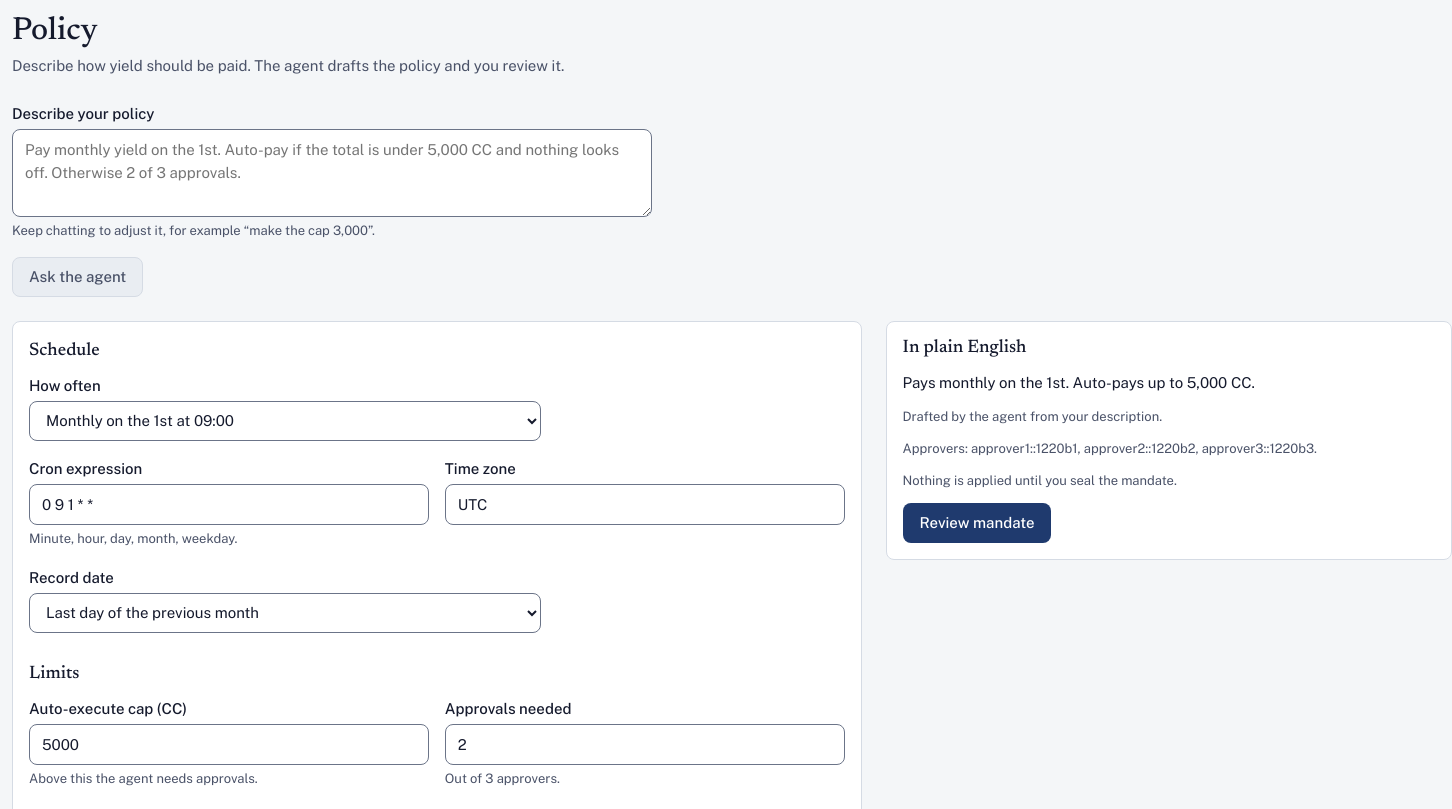
setup policy page › updates the summary from the PUT response, not from local text
Expected: the text "Pays monthly on the 1st. Auto-pays up to 5,000 CC." is shown, x1=903 y1=374 x2=1255 y2=391
Replace the text in the field labelled "Auto-execute cap (CC)" with "3000" at x=229, y=745, box x1=29 y1=724 x2=429 y2=765
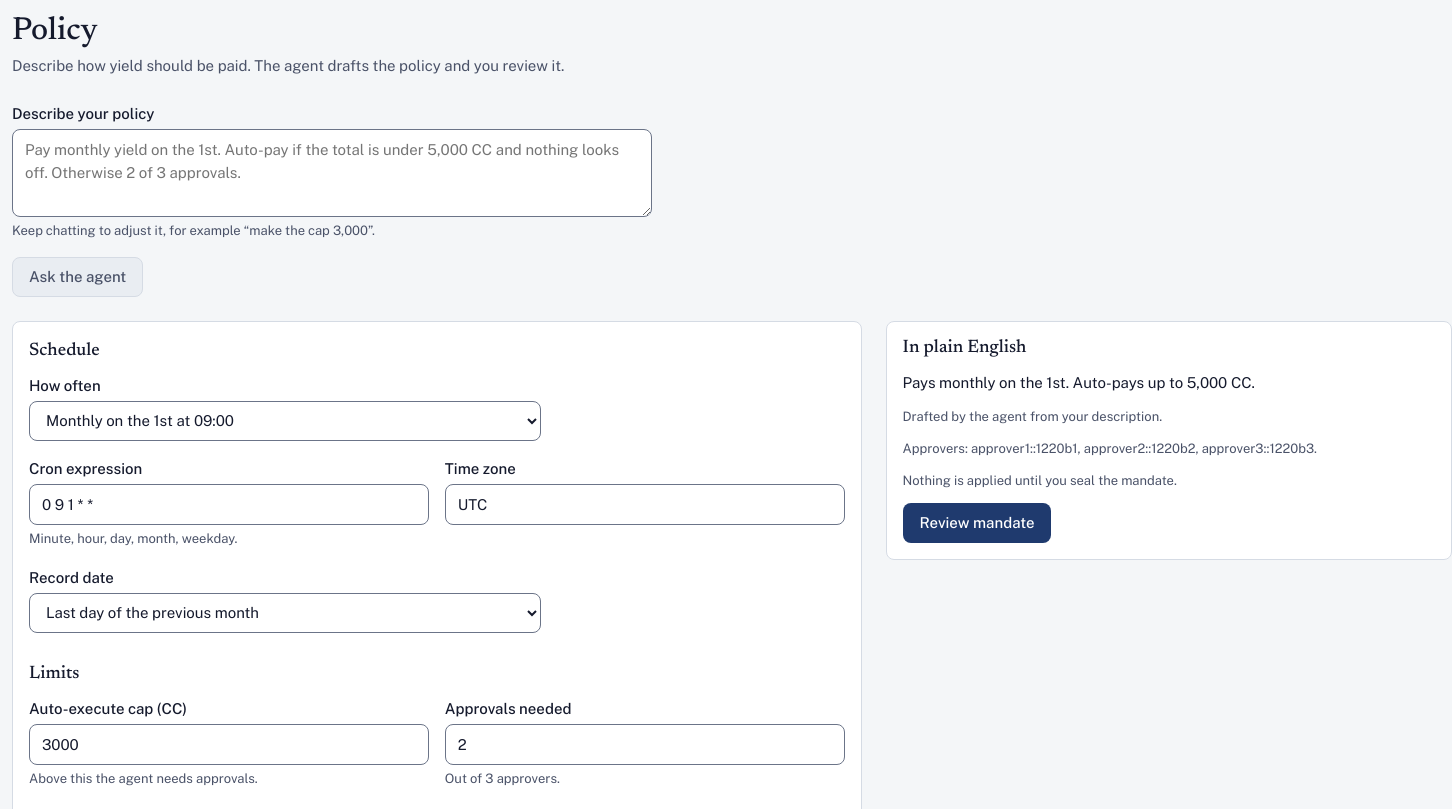
Replace the text in the field labelled "Auto-execute cap (CC)" with "3000.5" at x=229, y=745, box x1=29 y1=724 x2=429 y2=765
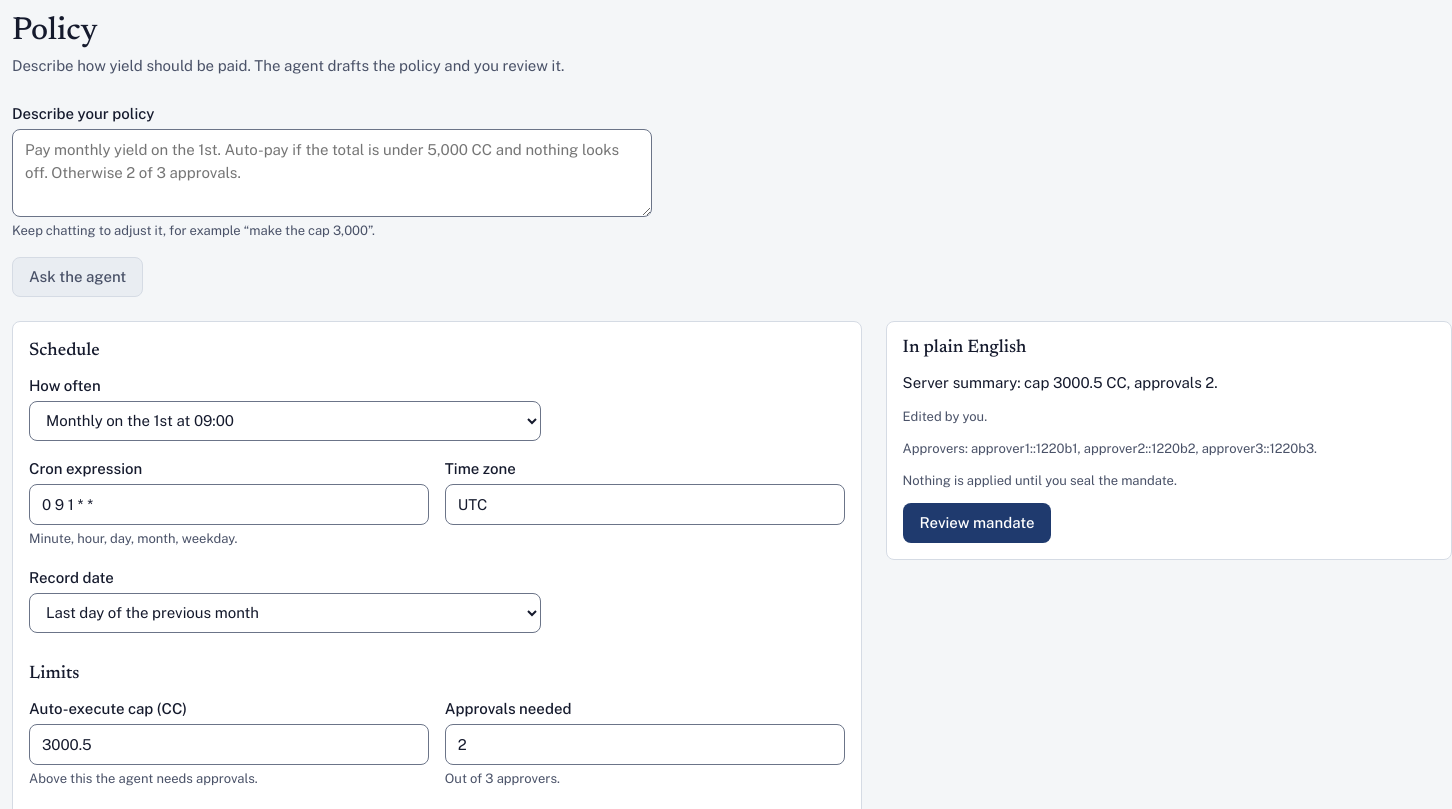
Expected: the text "Server summary: cap 3000.5 CC, approvals 2." is shown, x1=903 y1=374 x2=1218 y2=391
Expected: the text "Edited by you." is shown, x1=903 y1=409 x2=987 y2=424
